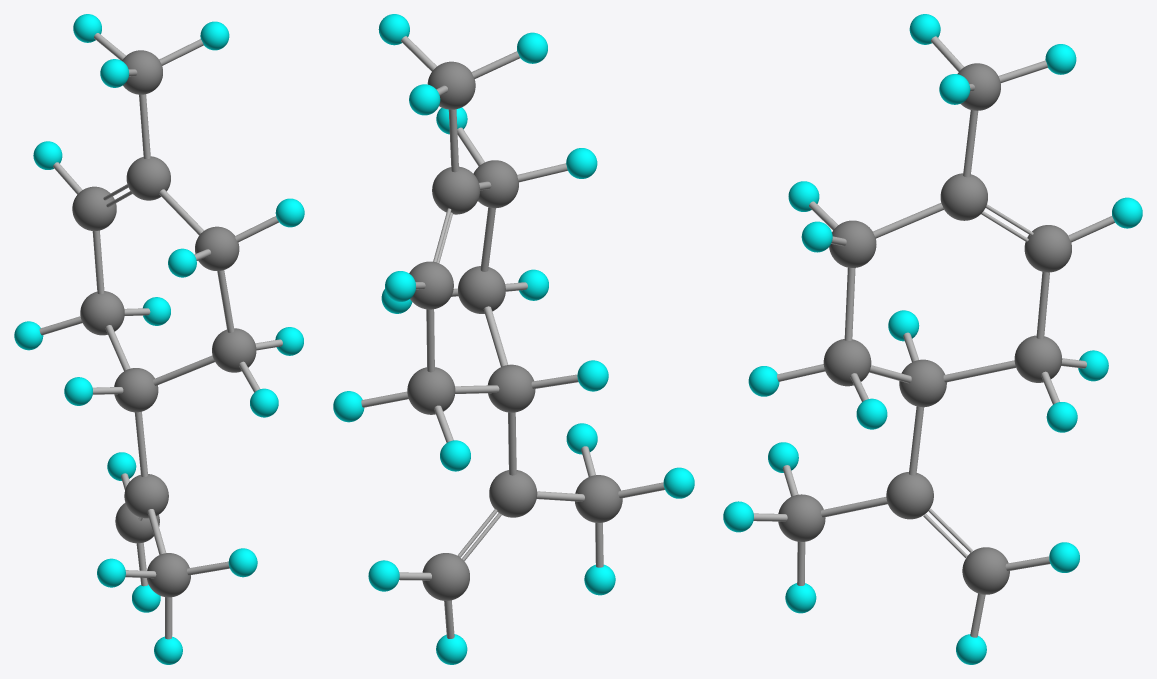
File: d-limonene.glb
3 renders of one model, left to right at view 1: azimuth 30°, elevation 25°; view 2: azimuth 150°, elevation 25°; view 3: azimuth 270°, elevation 25°, orthographic. The views are drawn at different scales.
Parts seen in each view (by area): view 1: CMBond_28_Segment_0; view 2: CMBond_28_Segment_0; view 3: CMBond_28_Segment_0.
Boxes of the visible parts, <box> form: CMBond_28_Segment_0: <box>14,14,304,664</box>; CMBond_28_Segment_0: <box>333,14,694,664</box>; CMBond_28_Segment_0: <box>723,14,1142,664</box>.
Size of the model in its own units: 0.3912 by 0.8859 by 0.5431.
